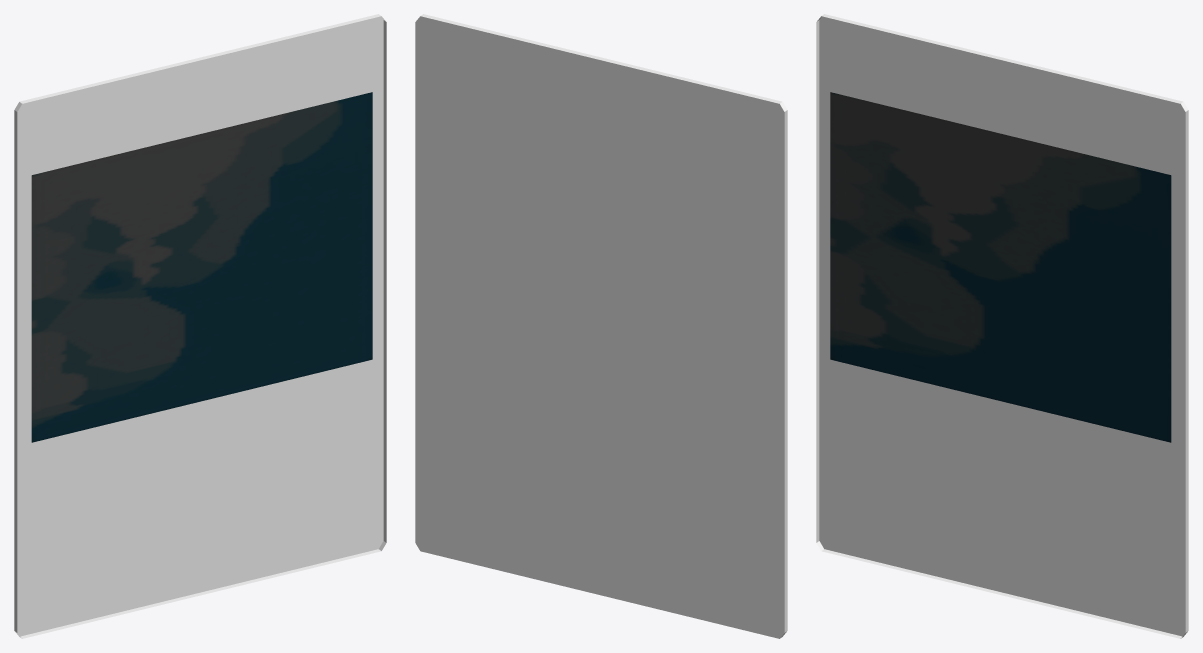
File: card.glb
3 renders of one model, left to right at view 1: azimuth 30°, elevation 25°; view 2: azimuth 150°, elevation 25°; view 3: azimuth 330°, elevation 25°, orthographic.
Visible parts, largest first — view 1: Card; view 2: Card; view 3: Card.
Part boxes in pixels (x1,y1,x2,y2): Card: (14, 14, 386, 638); Card: (415, 14, 787, 638); Card: (816, 14, 1188, 638).
Size of the model in its own units: 2.17 by 3 by 0.0314.
3 materials, 1 textured.
